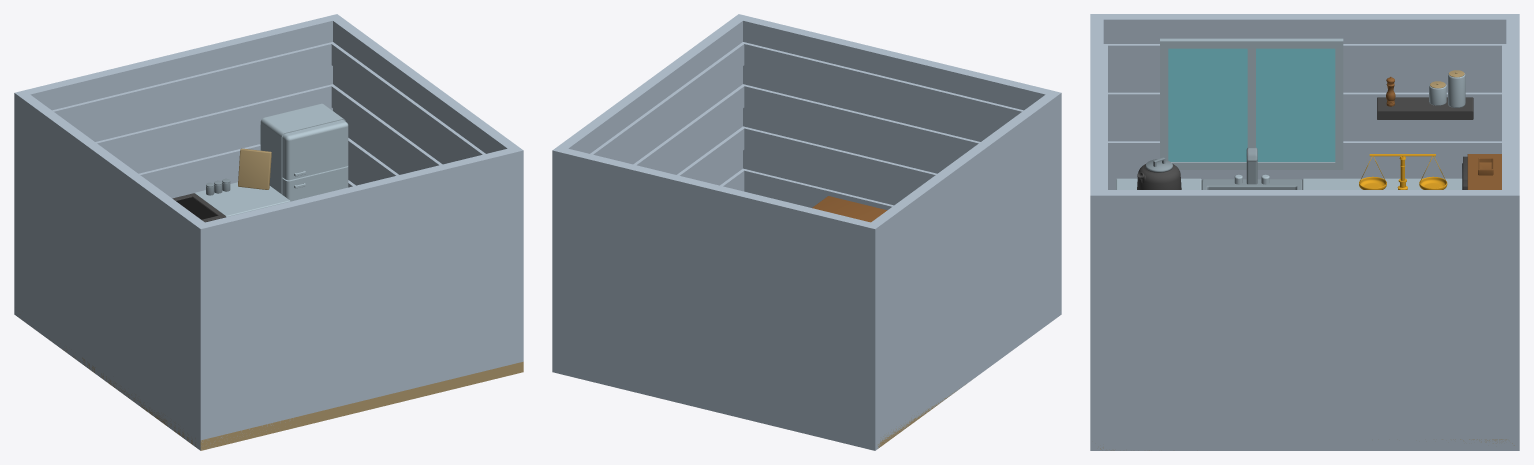
Rendered from kitchen.fbx.
3 views of the same model, side by side, from view 1: azimuth 30°, elevation 25°; view 2: azimuth 150°, elevation 25°; view 3: azimuth 270°, elevation 25° (orthographic). The views are drawn at different scales.
Parts seen in each view (by area): view 1: room, room.001, Cube.009, Cube.001, counter top.001, Cube.006, Cube.021, counter top.003; view 2: room, room.001, Cube.012; view 3: room, Cube, Cube.014, room.001, counter top.005, Cube.011, Cylinder.007, counter top.004, counter top.002, Cylinder.013, counter top, Cube.010.
Part boxes in pixels (x1,y1,x2,y2): room: [14, 15, 523, 450]; room.001: [14, 14, 523, 450]; Cube.009: [282, 120, 348, 180]; Cube.001: [260, 103, 345, 194]; counter top.001: [194, 182, 290, 217]; Cube.006: [282, 166, 348, 201]; Cube.021: [238, 148, 271, 189]; counter top.003: [172, 193, 225, 222]; room: [552, 14, 1061, 450]; room.001: [552, 90, 1061, 448]; Cube.012: [812, 196, 886, 222]; room: [1090, 14, 1519, 450]; Cube: [1247, 38, 1343, 169]; Cube.014: [1160, 38, 1255, 169]; room.001: [1090, 14, 1519, 450]; counter top.005: [1377, 97, 1473, 119]; Cube.011: [1302, 178, 1462, 189]; Cylinder.007: [1137, 159, 1181, 189]; counter top.004: [1467, 154, 1501, 189]; counter top.002: [1201, 179, 1302, 189]; Cylinder.013: [1448, 73, 1465, 107]; counter top: [1116, 178, 1201, 189]; Cube.010: [1246, 147, 1257, 184].
Bounding box in the file's own units: 3200 × 2100 × 3200.
